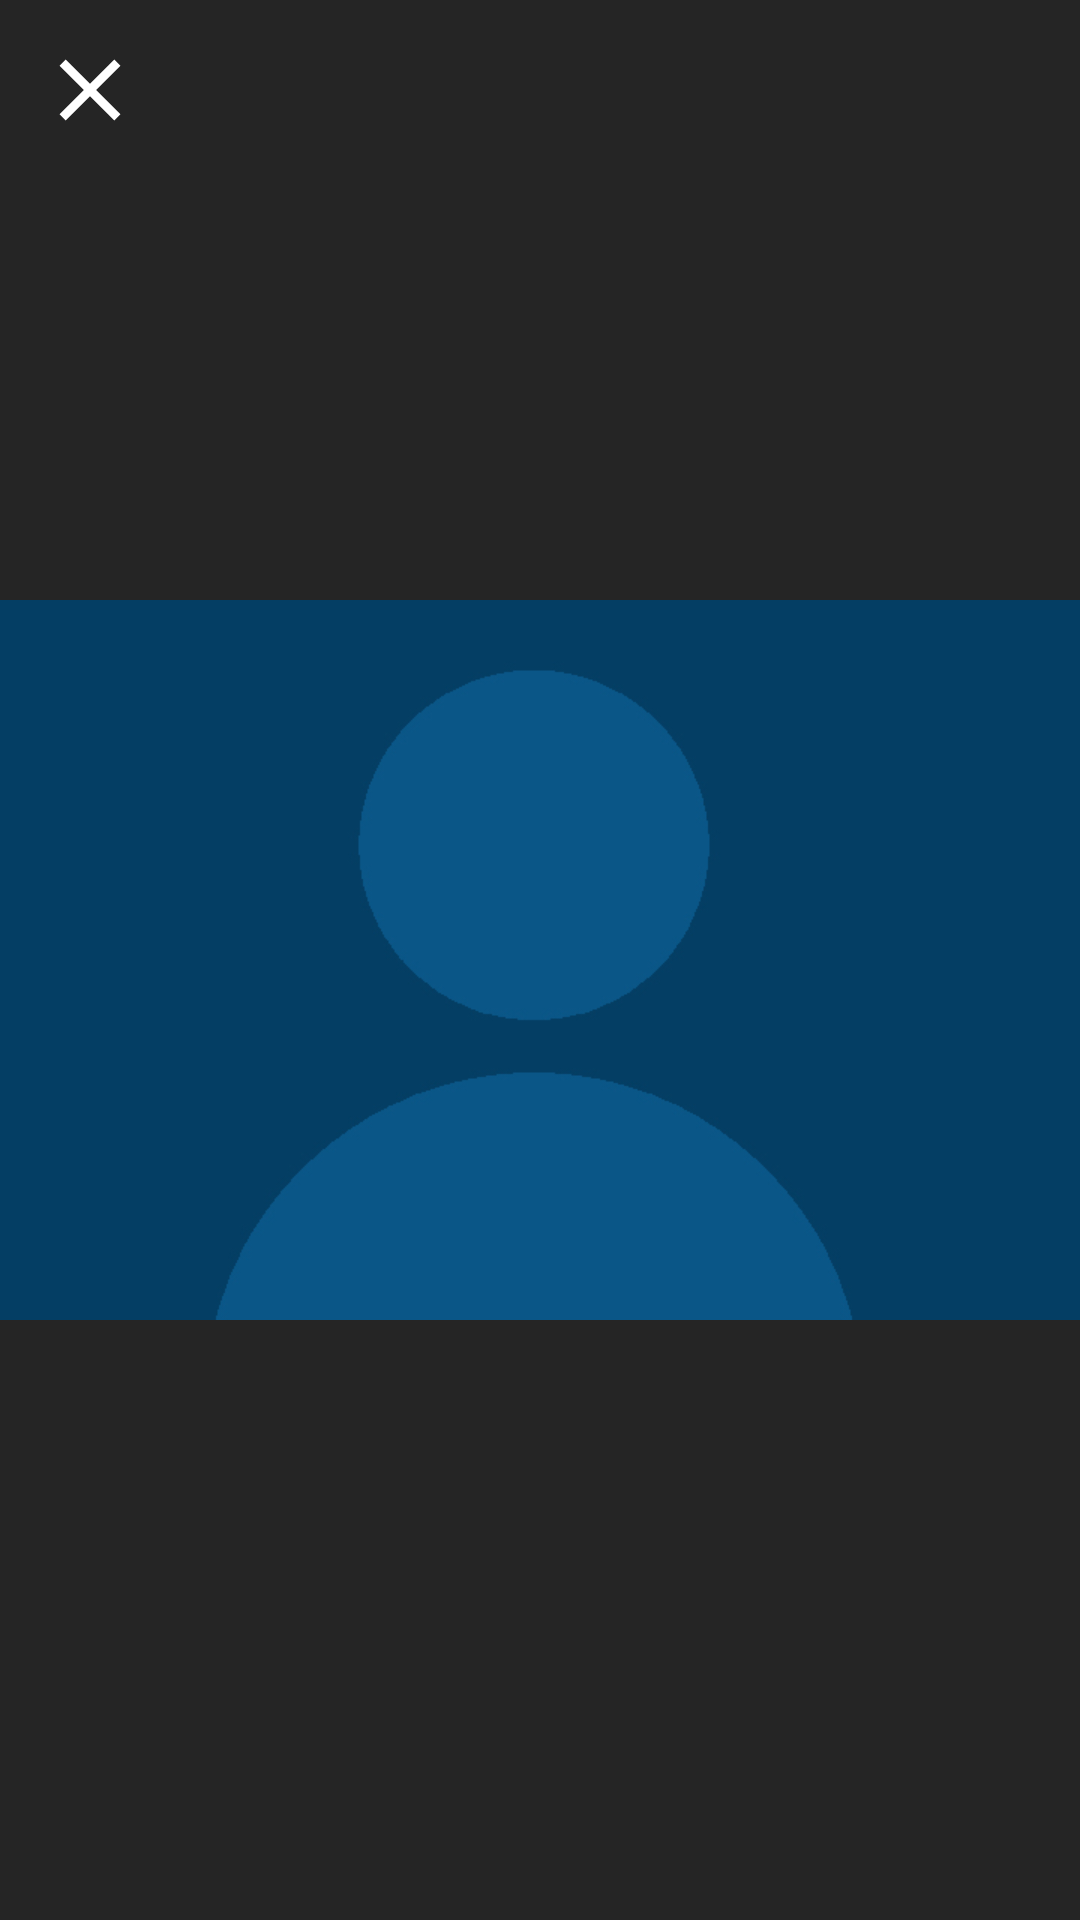

Locate icon controls on the screen. Image size 1080px×1920px, boxes as (left=x1, top=y1, right=x2, bottom=y2).
close: (left=59, top=59, right=121, bottom=121)
